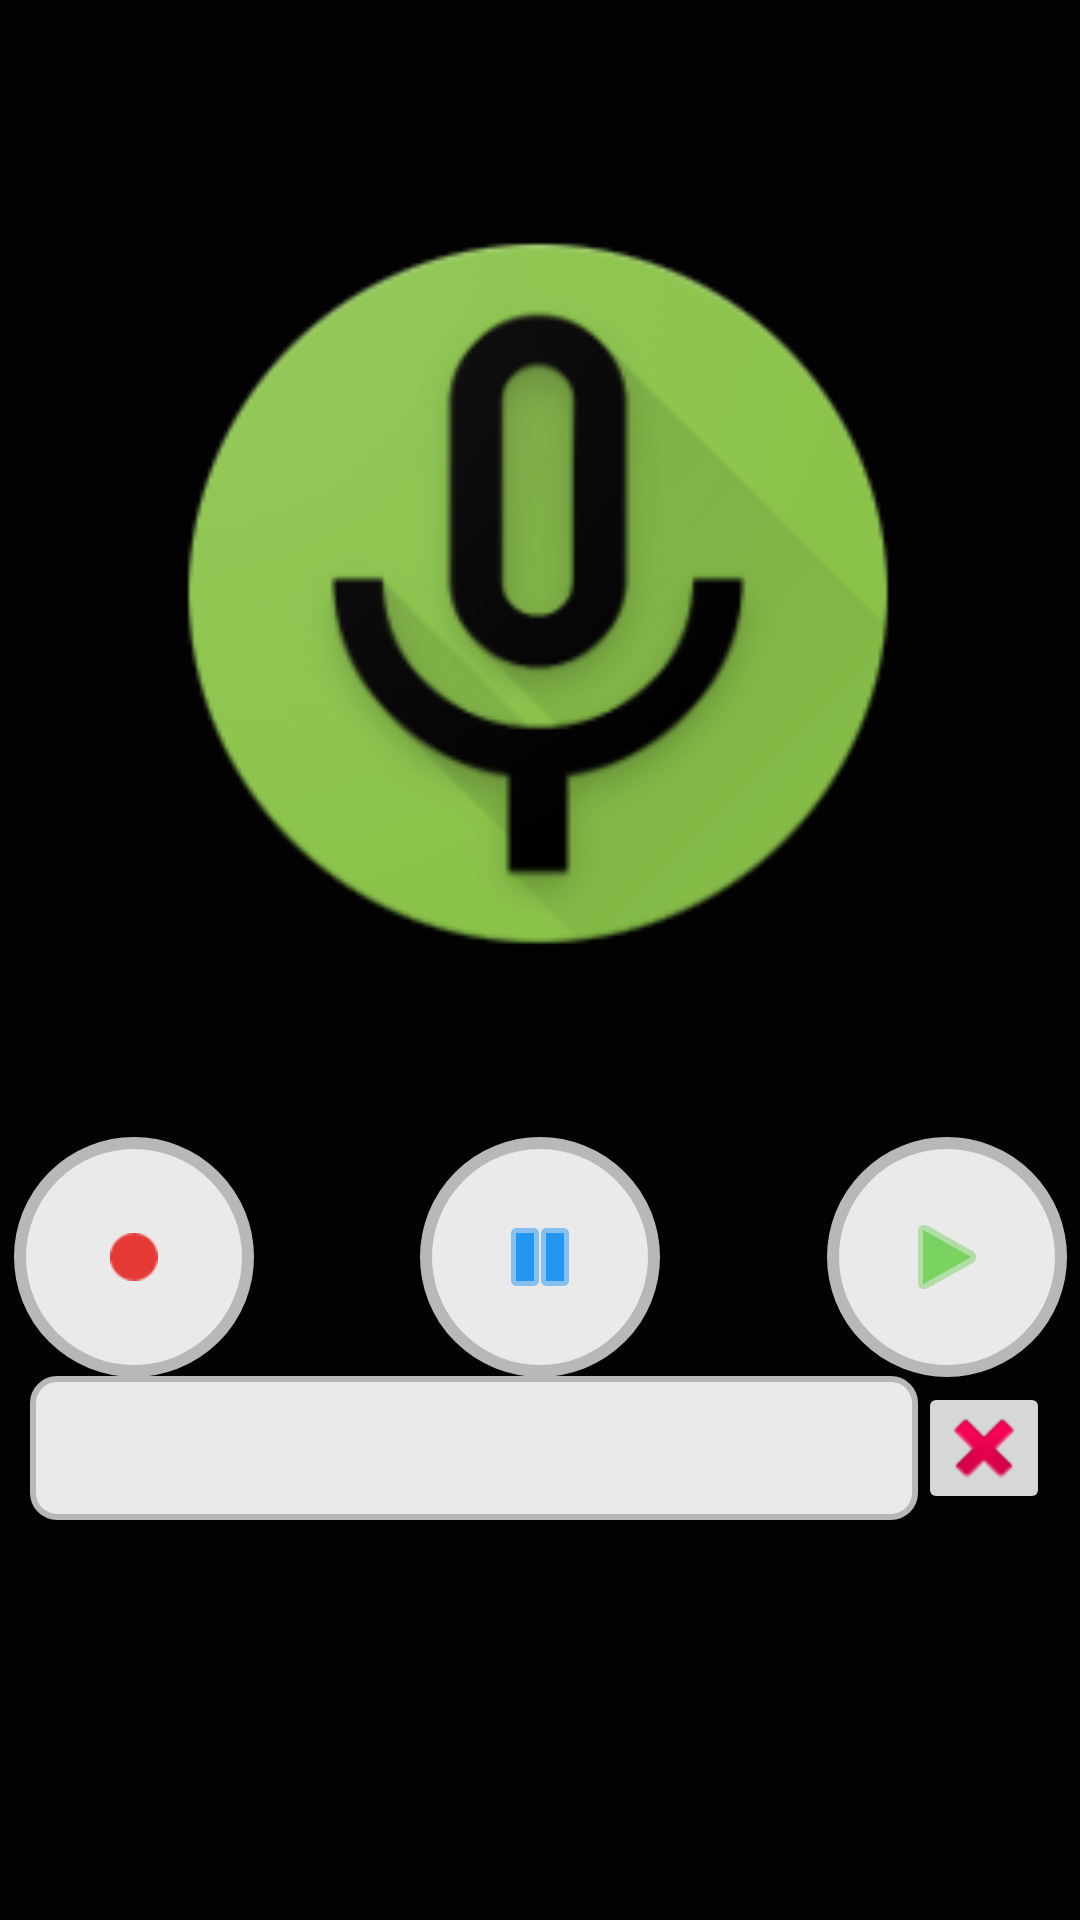

Icon click points for this 1080px×1920px phone screenshot, format point (x, y):
pause: point (540, 1257)
play: point (947, 1257)
Remove: point (984, 1448)
